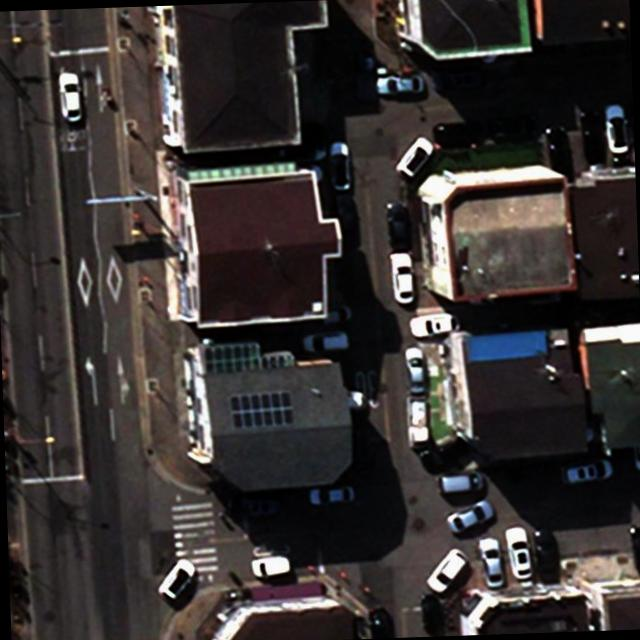solar: (226, 389, 296, 431)
